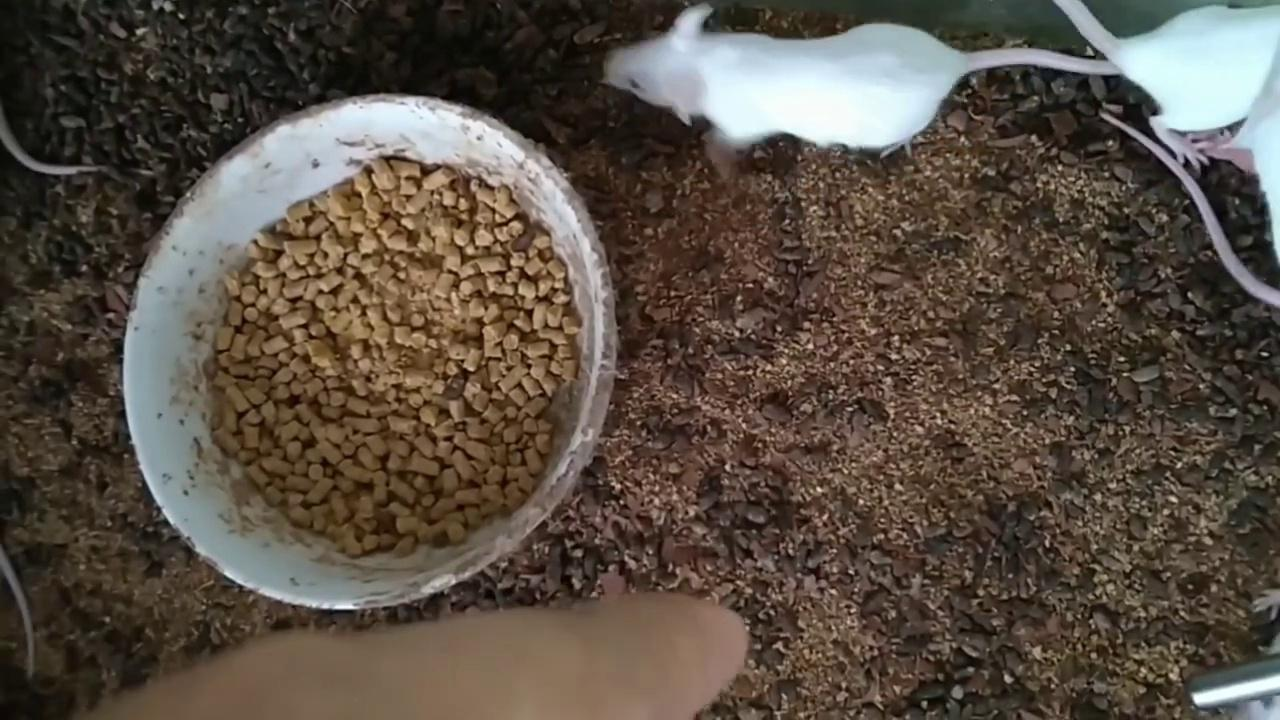rat: (611, 7, 1107, 150), (1040, 0, 1280, 170)
